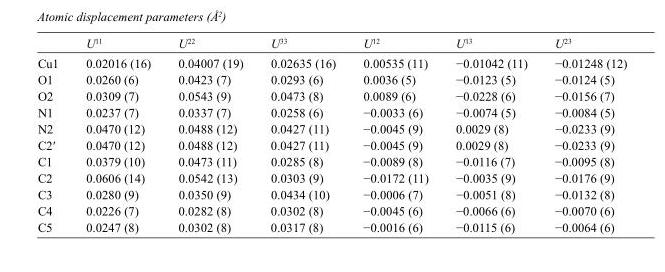table: (36, 36, 626, 233)
table column: (441, 36, 540, 233), (163, 36, 256, 233), (348, 36, 441, 233), (71, 36, 163, 233), (256, 36, 348, 233), (540, 36, 626, 233), (36, 36, 71, 233)
table column header: (36, 36, 626, 53)
table row: (36, 53, 626, 71), (36, 36, 626, 53), (36, 87, 626, 104), (36, 136, 626, 153), (36, 169, 626, 186), (36, 71, 626, 87), (36, 104, 626, 120), (36, 120, 626, 136), (36, 153, 626, 169), (36, 186, 626, 202), (36, 202, 626, 218), (36, 218, 626, 233)
